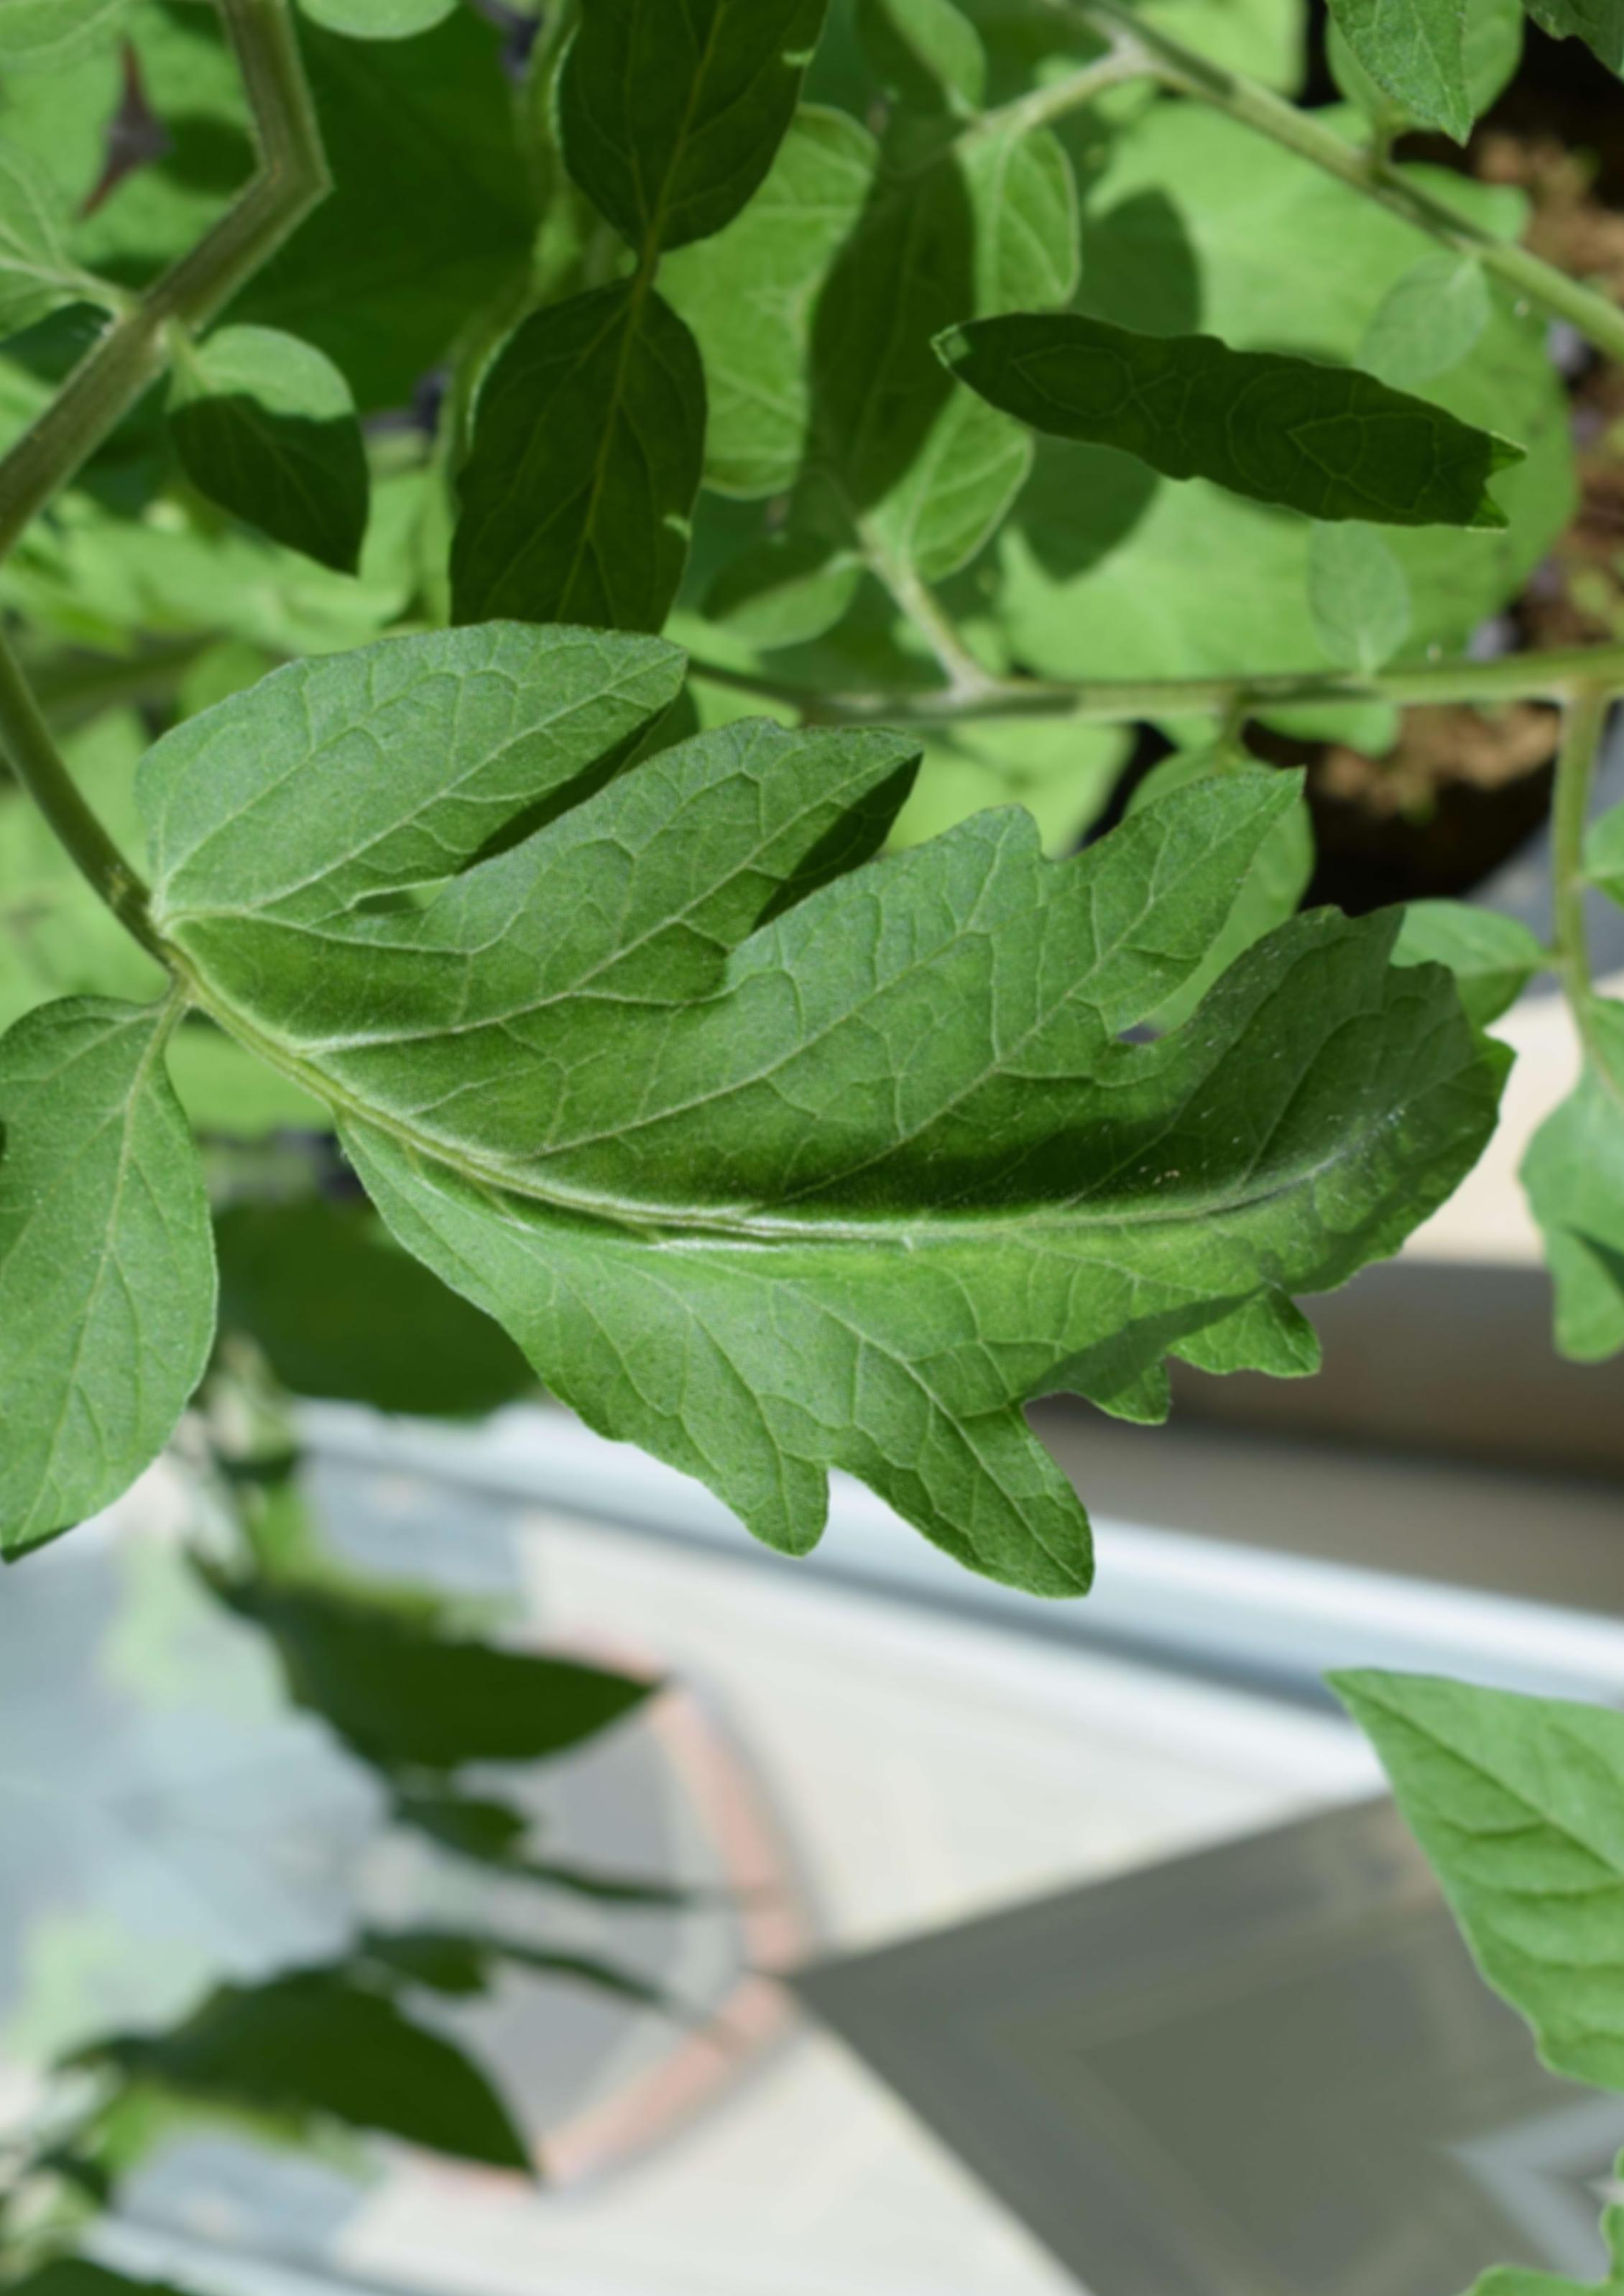Tomato leaf: (0, 380, 1599, 1638), (0, 912, 339, 1577), (0, 1435, 112, 1793), (0, 897, 53, 1410)
